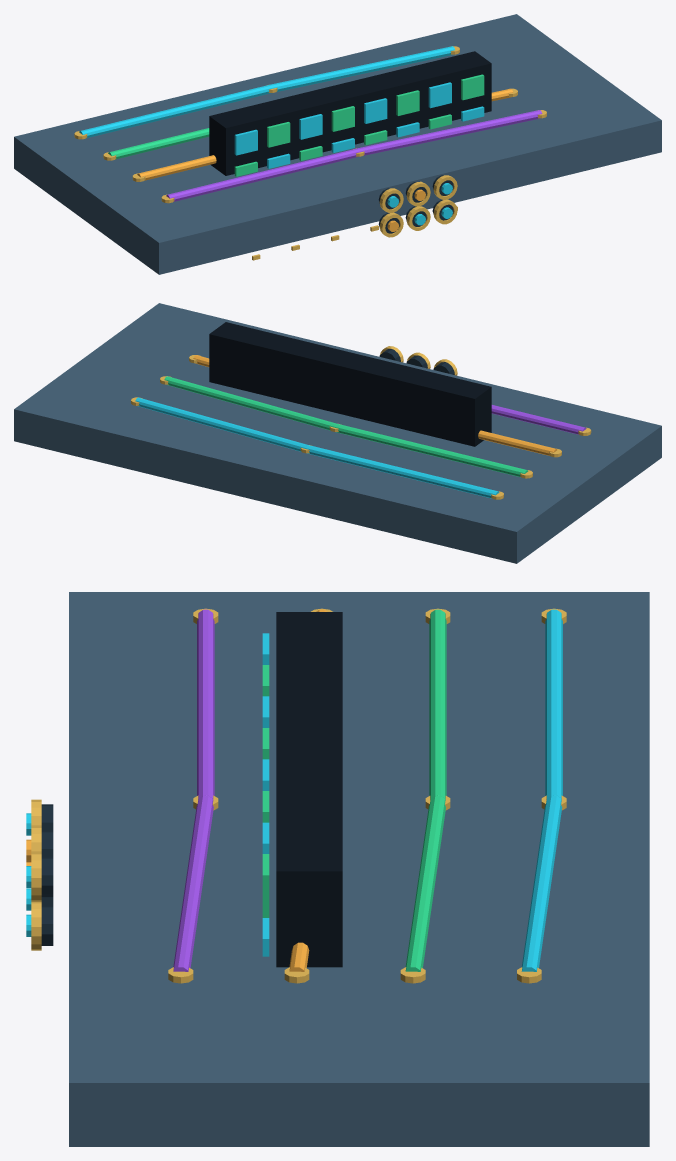
The model's file is 41_L81_ResilientInterchipCommunicationFabric.fbx.
3 renders of one model, top to bottom at view 1: azimuth 30°, elevation 25°; view 2: azimuth 150°, elevation 25°; view 3: azimuth 270°, elevation 25°, orthographic. The views are drawn at different scales.
Visible parts, largest first — view 1: ResilientInterchipCommunicationFabric, ResilientInterchipCommunicationFabric_Part_0025, ResilientInterchipCommunicationFabric_Part_0050, ResilientInterchipCommunicationFabric_Part_0054, ResilientInterchipCommunicationFabric_Part_0053, ResilientInterchipCommunicationFabric_Part_0055, ResilientInterchipCommunicationFabric_Part_0051, ResilientInterchipCommunicationFabric_Part_0056, ResilientInterchipCommunicationFabric_Part_0057, ResilientInterchipCommunicationFabric_Part_0052; view 2: ResilientInterchipCommunicationFabric, ResilientInterchipCommunicationFabric_Part_0025; view 3: ResilientInterchipCommunicationFabric, ResilientInterchipCommunicationFabric_Part_0025.
Boxes of the visible parts, bbox=[...] form: ResilientInterchipCommunicationFabric: bbox=[14, 14, 661, 274]; ResilientInterchipCommunicationFabric_Part_0025: bbox=[209, 51, 491, 175]; ResilientInterchipCommunicationFabric_Part_0050: bbox=[234, 129, 257, 155]; ResilientInterchipCommunicationFabric_Part_0054: bbox=[364, 98, 387, 123]; ResilientInterchipCommunicationFabric_Part_0053: bbox=[331, 106, 354, 131]; ResilientInterchipCommunicationFabric_Part_0055: bbox=[396, 90, 419, 115]; ResilientInterchipCommunicationFabric_Part_0051: bbox=[267, 122, 290, 147]; ResilientInterchipCommunicationFabric_Part_0056: bbox=[428, 82, 451, 108]; ResilientInterchipCommunicationFabric_Part_0057: bbox=[461, 74, 484, 100]; ResilientInterchipCommunicationFabric_Part_0052: bbox=[299, 114, 322, 139]; ResilientInterchipCommunicationFabric: bbox=[14, 303, 661, 563]; ResilientInterchipCommunicationFabric_Part_0025: bbox=[209, 322, 491, 446]; ResilientInterchipCommunicationFabric: bbox=[26, 592, 649, 1146]; ResilientInterchipCommunicationFabric_Part_0025: bbox=[276, 612, 342, 967].
Bounding box in the file's own units: 280 × 71 × 150.
